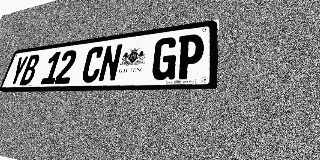1: (40, 51, 64, 84)
2: (54, 49, 78, 84)
B: (19, 54, 41, 85)
C: (80, 46, 105, 83)
G: (150, 36, 179, 80)
N: (97, 43, 123, 82)
P: (175, 33, 205, 79)
Y: (8, 56, 29, 86)
